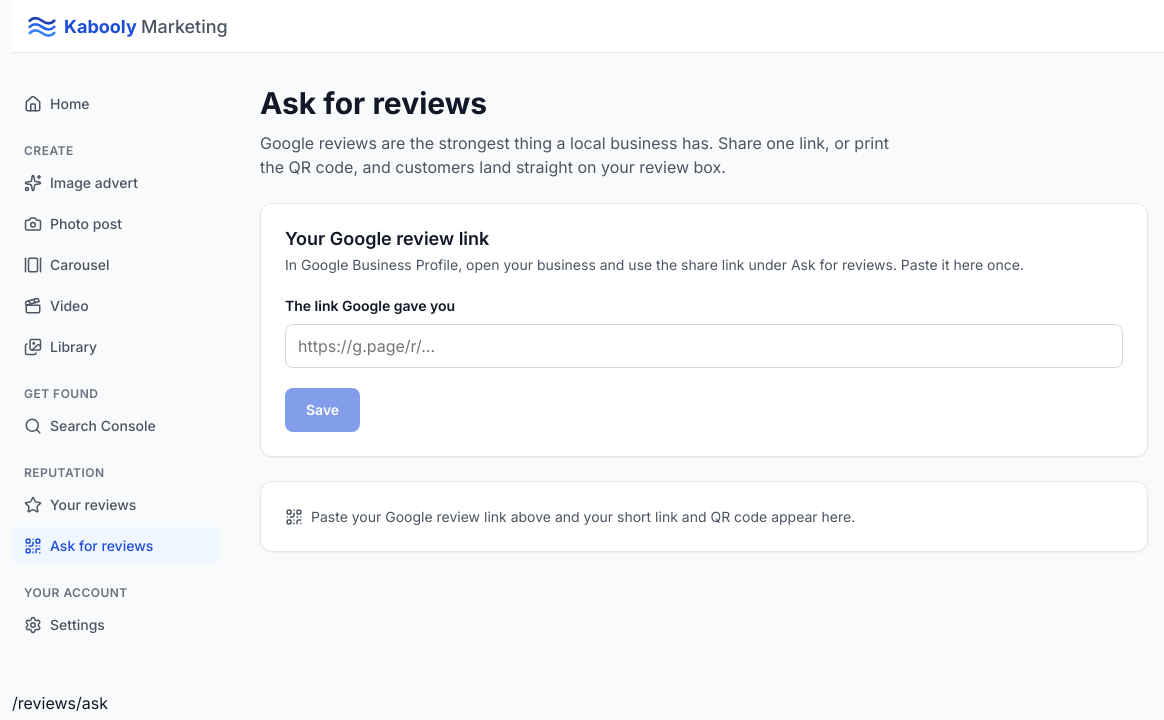
Scenario: asking for reviews › repeats what the worker says about a link that is not a Google one
This screenshot has width=1164, height=720.
Type "https://example.com/leave-a-review" into the field with test id "review-target-input" at (704, 346), box [285, 324, 1123, 368]
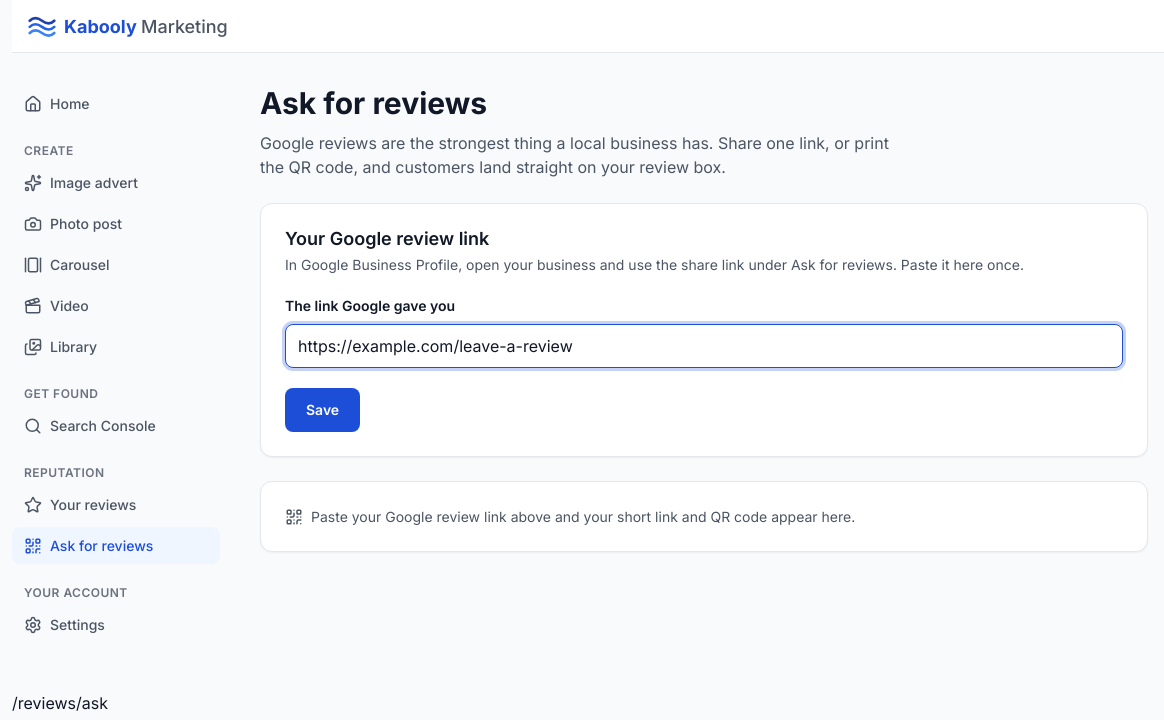
Click the button with test id "save-review-link" at (323, 410), box [285, 388, 360, 432]
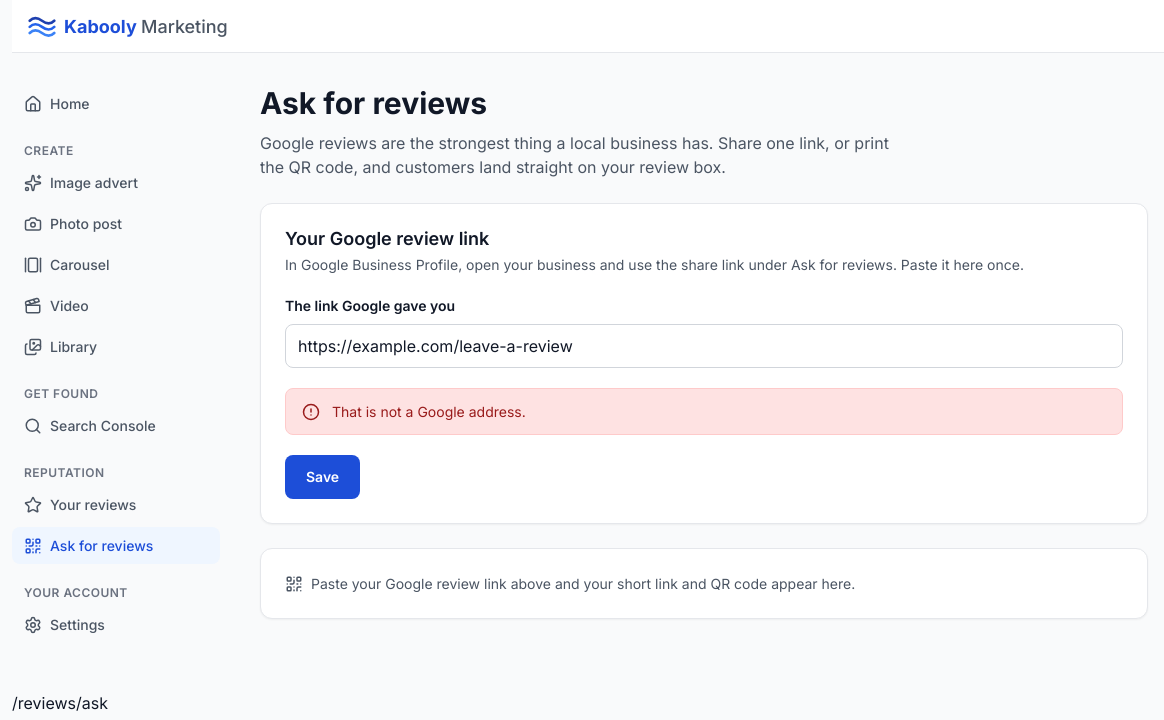
expect the text "That is not a Google address." is shown: met, box [332, 401, 526, 422]
